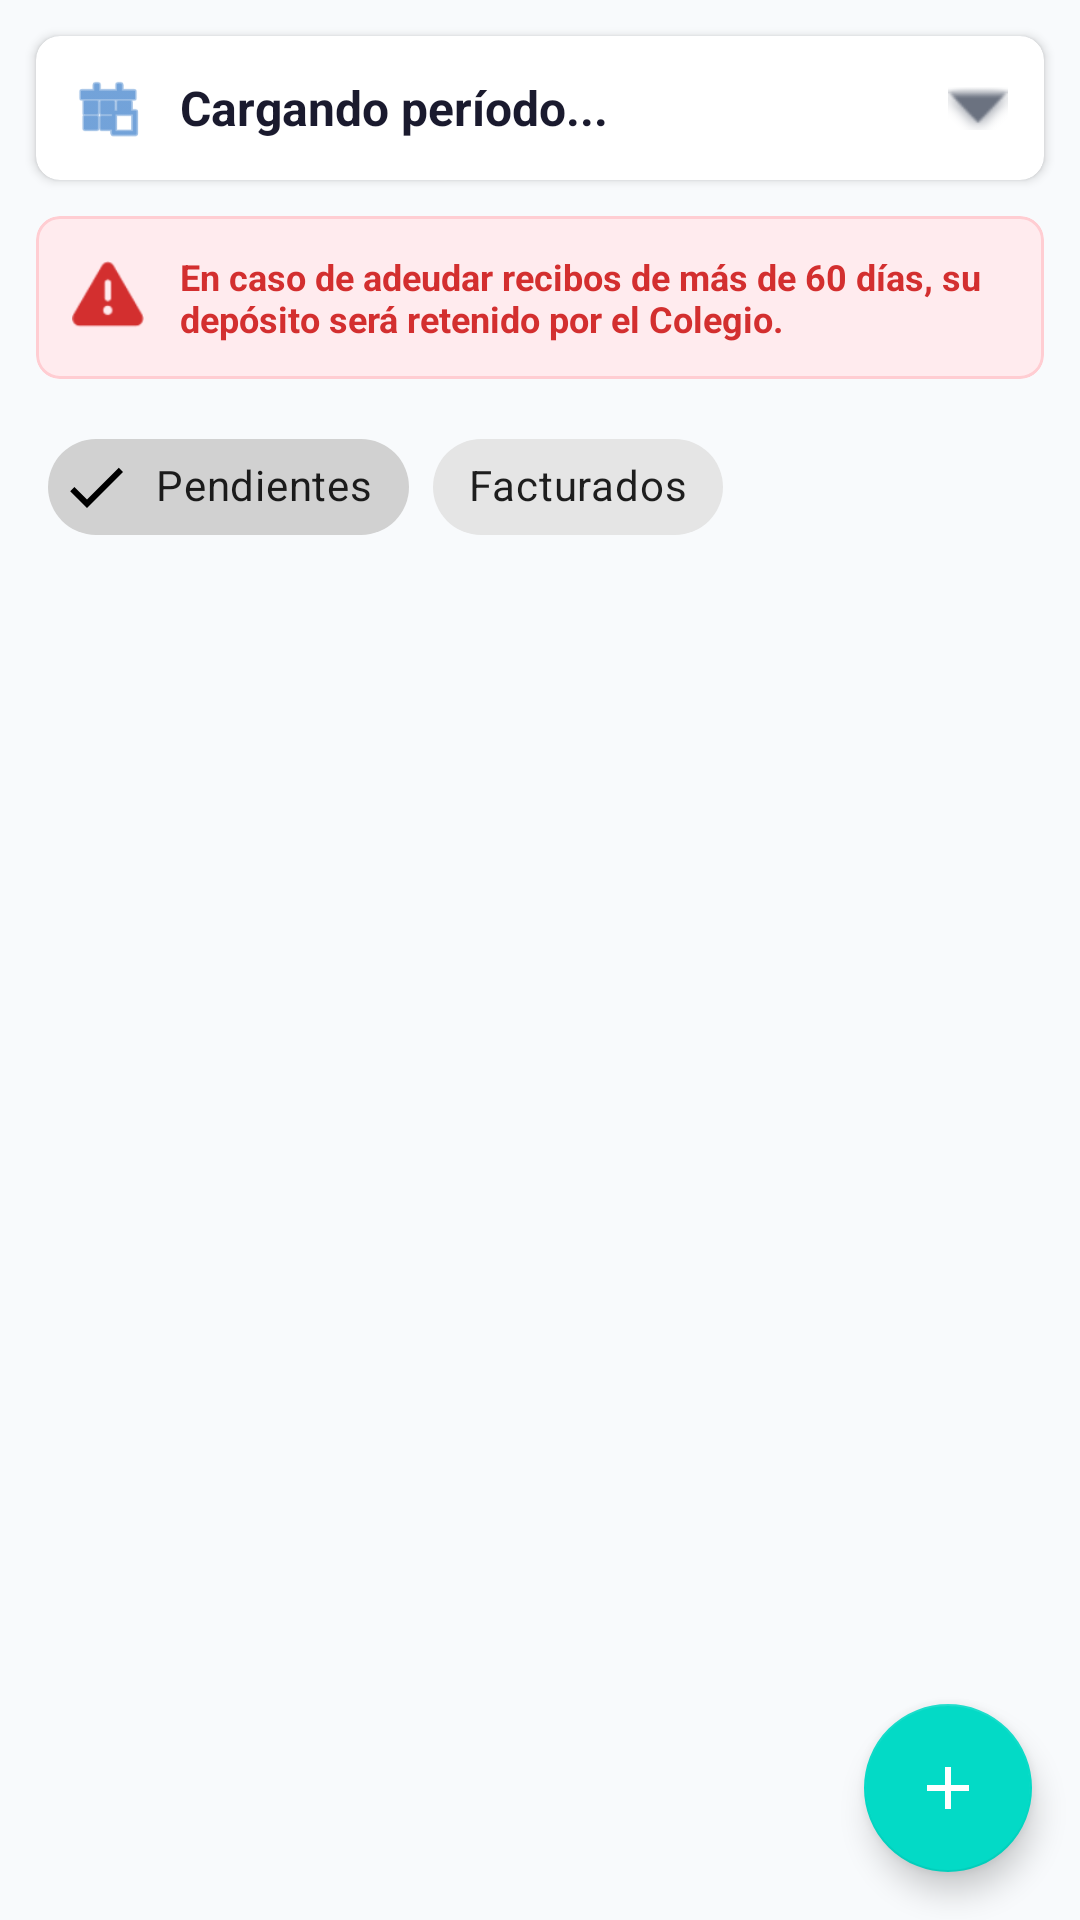

Where to tap for icons on this 1080 x 1920 app screen, as [x,y]:
alert: [108,294]
arrow down float: [978,107]
Nueva liquidación: [948,1788]
today: [108,109]
